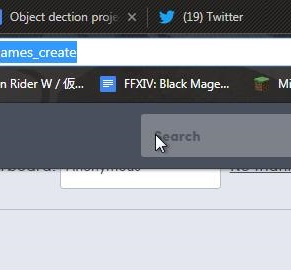cursor: (154, 132, 168, 154)
